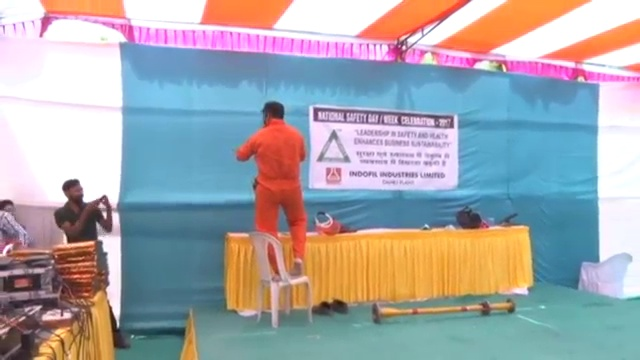helmet_off: (61, 177, 88, 204), (262, 100, 285, 126)
person: (234, 96, 314, 274), (52, 176, 116, 244)
